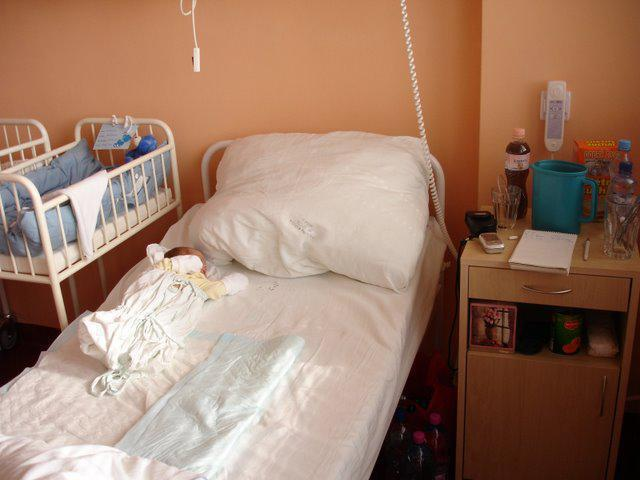Cama: (3, 140, 453, 471), (3, 109, 185, 281)
